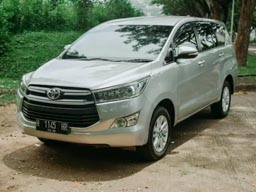plat: (32, 117, 72, 129)
